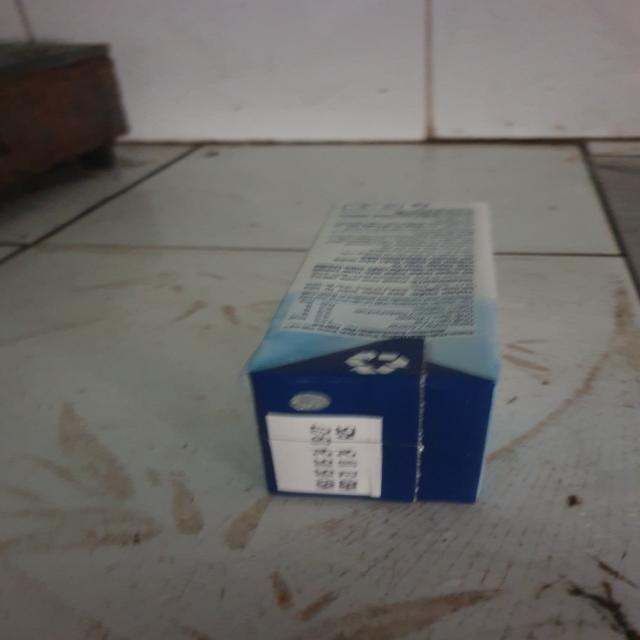TH: (241, 199, 500, 507)
